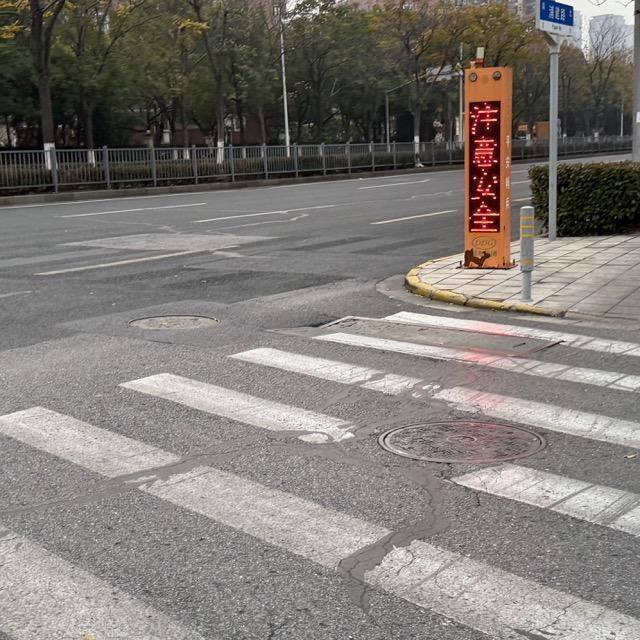curb: (0, 167, 462, 206), (404, 266, 566, 316)
